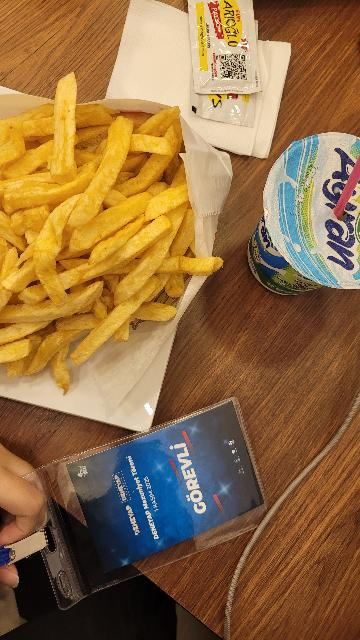Organik: (0, 108, 193, 367)
Plastik: (36, 396, 266, 589), (248, 130, 360, 302), (187, 2, 270, 130)
